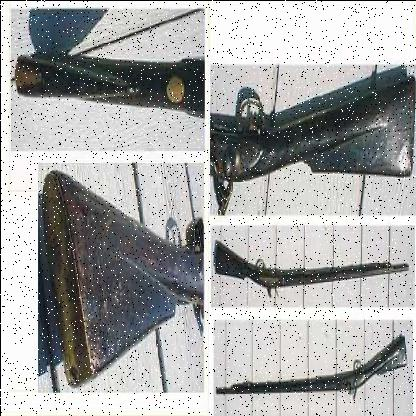rifle: (213, 50, 416, 209), (214, 316, 409, 415), (209, 217, 410, 312)
